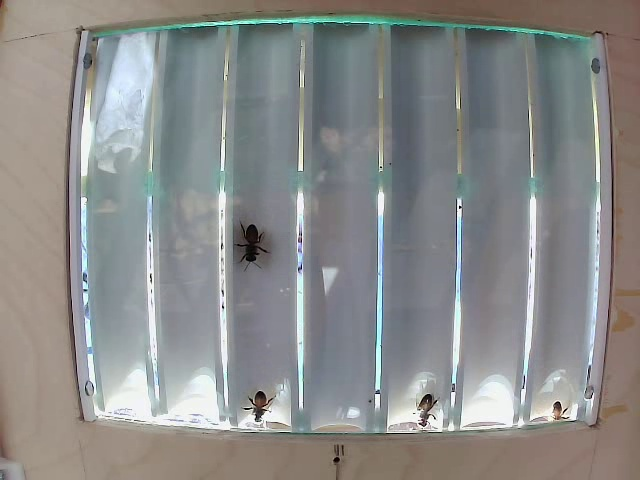bee: (231, 213, 274, 272), (241, 384, 280, 422), (404, 382, 435, 429)
